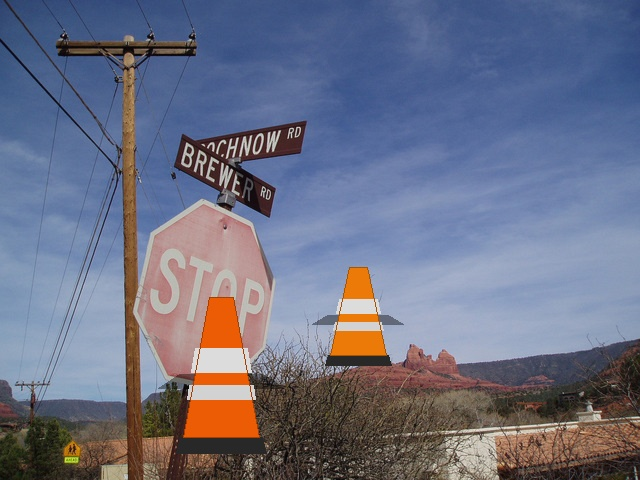traffic-cone: (176, 297, 266, 453), (325, 267, 391, 365)
